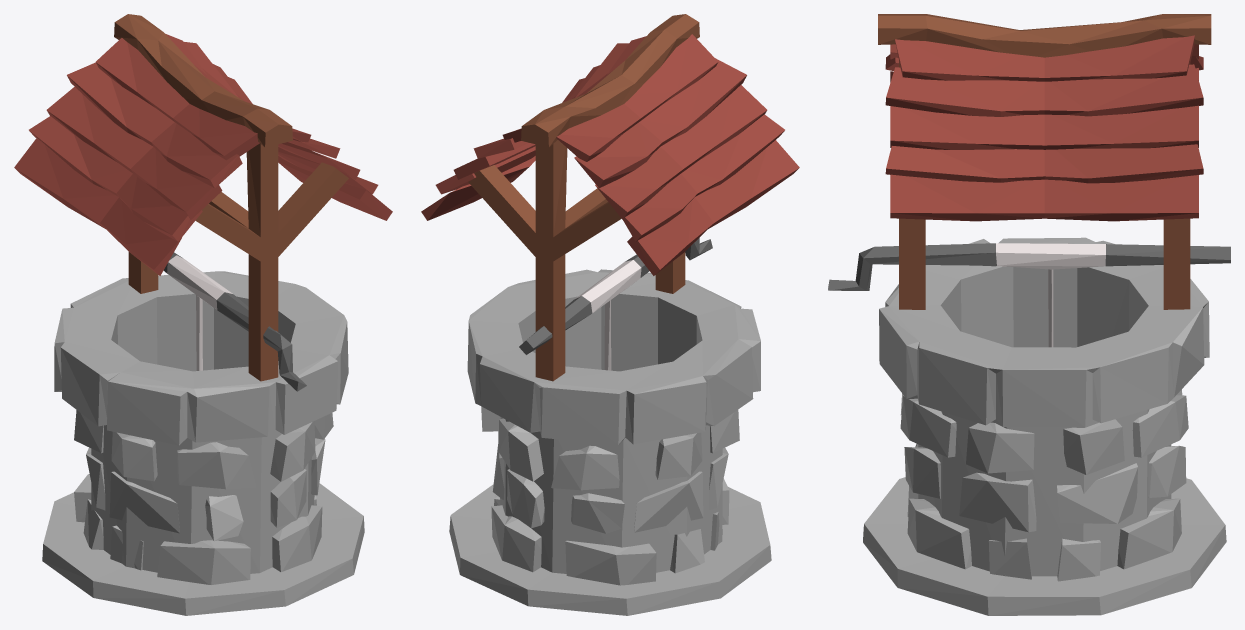
Rendered from Well.lod1.glb.
3 views of the same model, side by side, from view 1: azimuth 30°, elevation 25°; view 2: azimuth 150°, elevation 25°; view 3: azimuth 270°, elevation 25° (orthographic). The views are drawn at different scales.
Visible parts, largest first — view 1: Well; view 2: Well; view 3: Well.
Boxes of the visible parts, <box> form: Well: <box>14,14,392,615</box>; Well: <box>421,14,799,615</box>; Well: <box>828,14,1230,615</box>.
Bounding box in the file's own units: 1.28 × 2.15 × 1.49.
